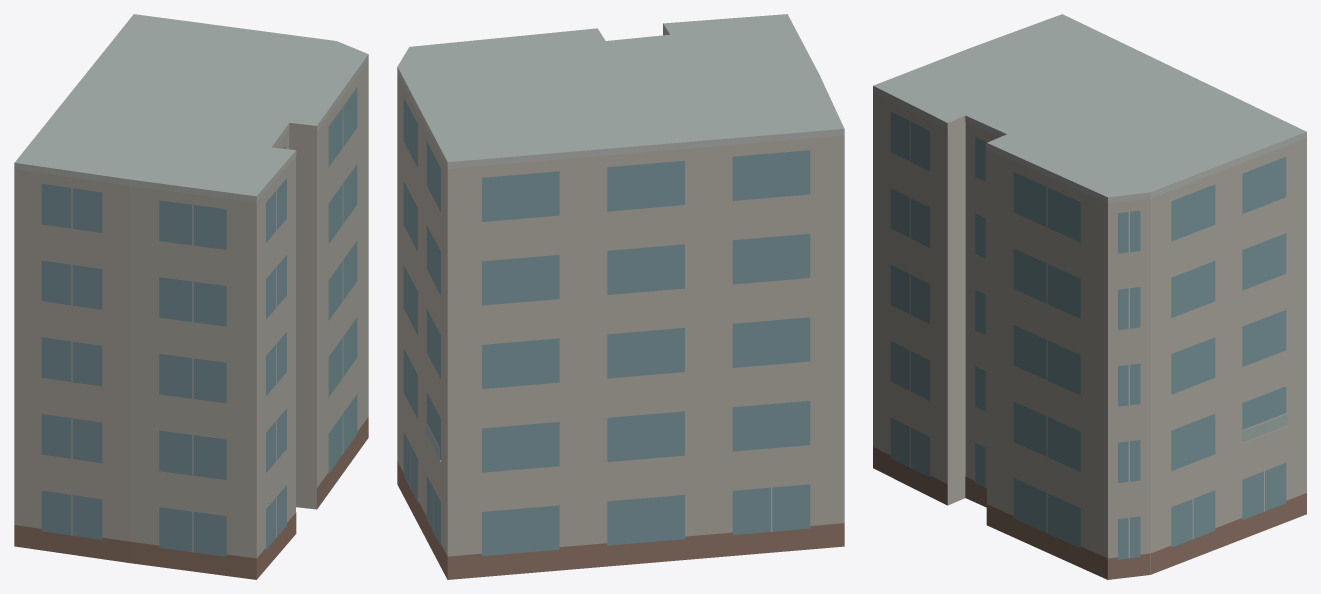
File: survey-upis-32732748.glb
3 renders of one model, left to right at view 1: azimuth 30°, elevation 25°; view 2: azimuth 150°, elevation 25°; view 3: azimuth 270°, elevation 25°, orthographic. The views are drawn at different scales.
Parts seen in each view (by area): view 1: survey-upis-32732748.tmp; view 2: survey-upis-32732748.tmp; view 3: survey-upis-32732748.tmp.
Part boxes in pixels (x1=…): survey-upis-32732748.tmp: x1=14, y1=14, x2=368, y2=579; survey-upis-32732748.tmp: x1=397, y1=14, x2=844, y2=579; survey-upis-32732748.tmp: x1=873, y1=14, x2=1306, y2=579.
Size of the model in its own units: 15.69 by 15.25 by 15.68.
